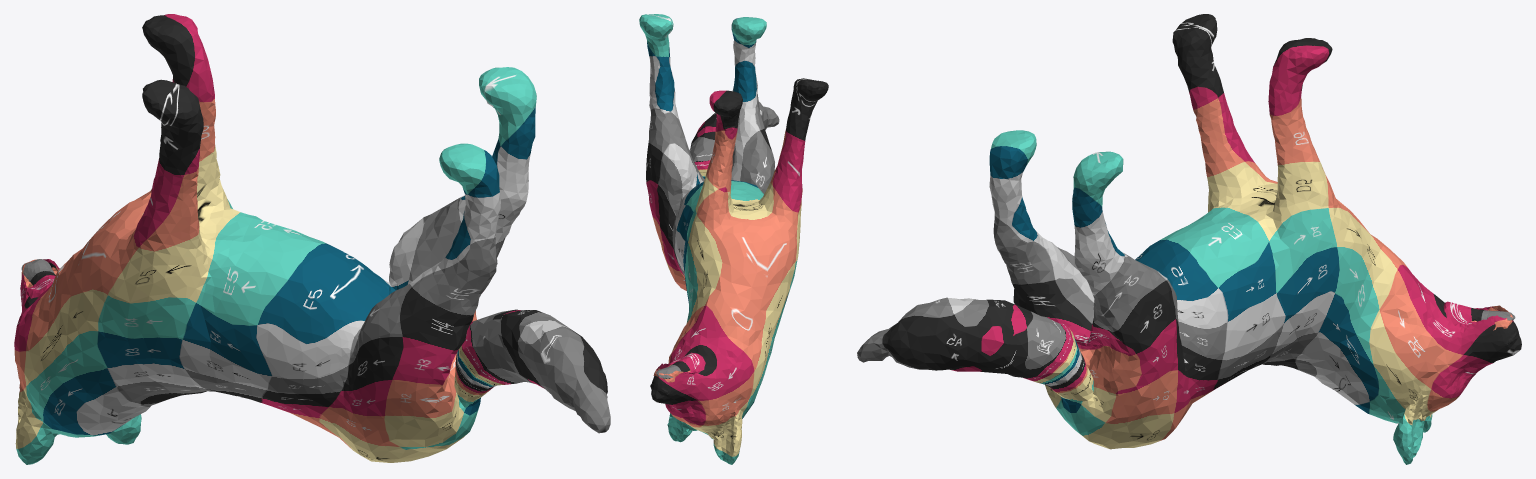
Rendered from hippo_01-dog_01.obj.
3 renders of one model, left to right at view 1: azimuth 30°, elevation 25°; view 2: azimuth 150°, elevation 25°; view 3: azimuth 270°, elevation 25°, orthographic. The views are drawn at different scales.
Visible parts, largest first — view 1: hippo_01-dog_01_export; view 2: hippo_01-dog_01_export; view 3: hippo_01-dog_01_export.
Part boxes in pixels (bbox=[...]): hippo_01-dog_01_export: bbox=[14, 14, 610, 464]; hippo_01-dog_01_export: bbox=[639, 14, 828, 464]; hippo_01-dog_01_export: bbox=[857, 14, 1521, 464].
Size of the model in its own units: 0.5287 by 0.7141 by 1.03.
